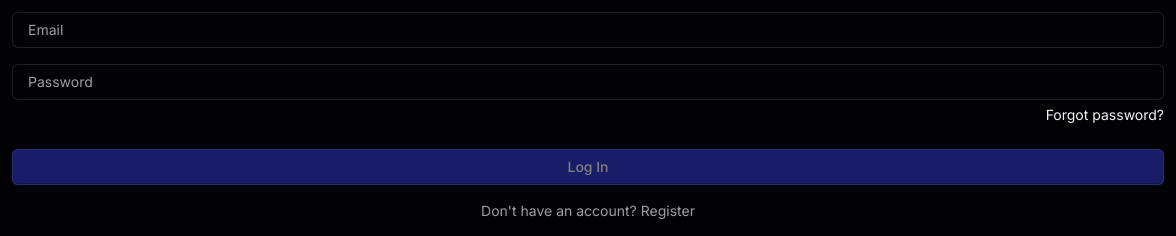
it: LoginForm › enables submit button after user types in fields
The width and height of the screenshot is (1176, 236).
Type "user@example.com" into the field labelled "Email".
click(588, 30); type("user@example.com")  # box x1=28 y1=12 x2=1148 y2=48
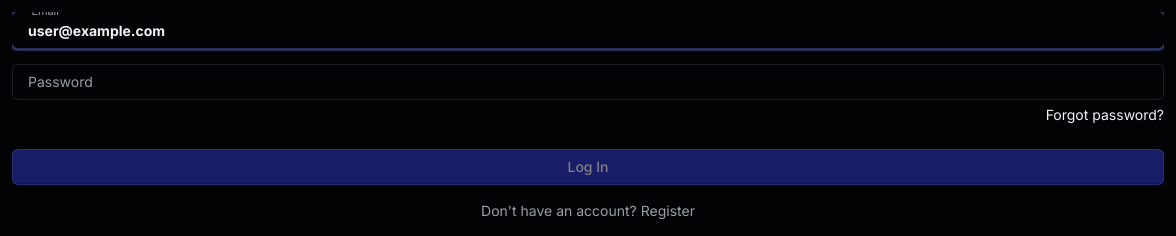
Press Tab
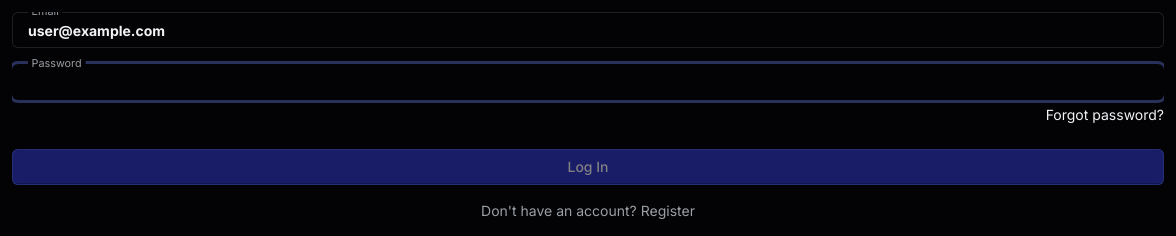
Type "secret123" into the password field labelled "Password".
click(588, 82); type("secret123")  # box x1=28 y1=64 x2=1148 y2=100
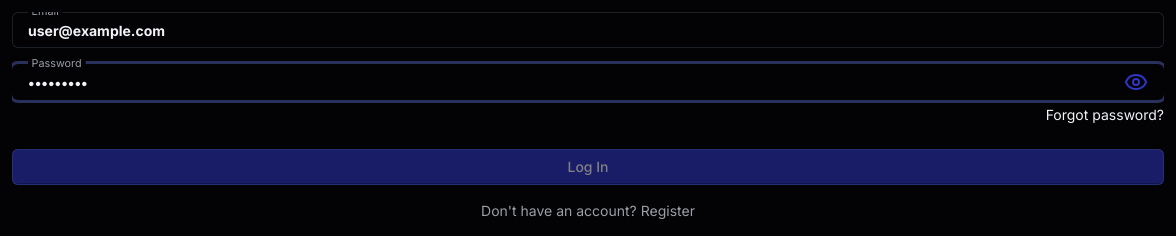
Press Tab
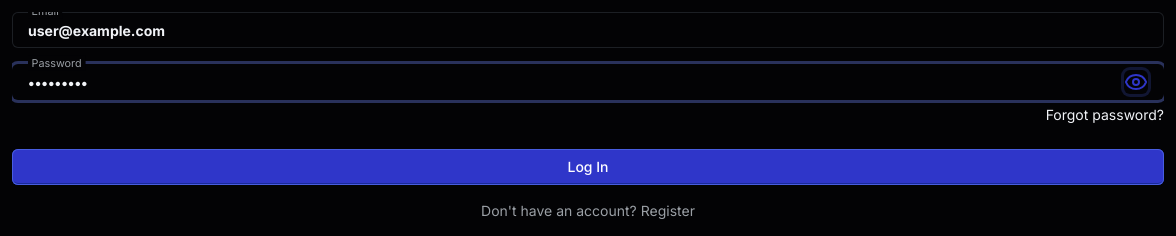
Expected: the button "Log In" is enabled, x1=12 y1=149 x2=1164 y2=185
